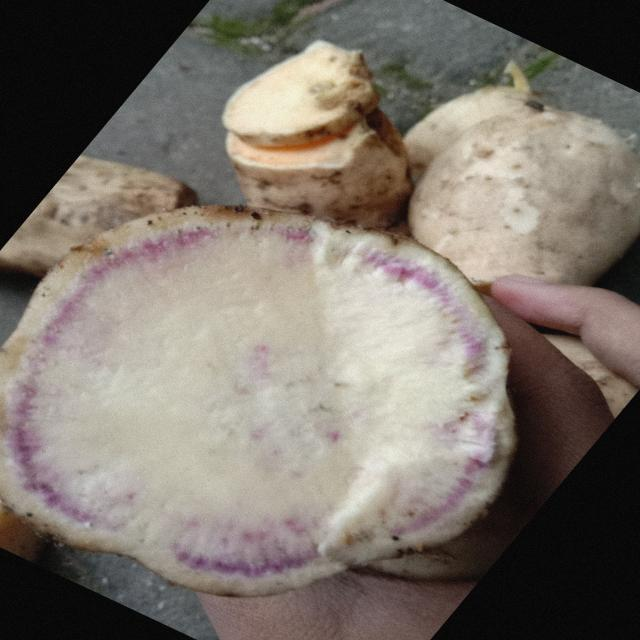Healthy Sweet Potato: (2, 206, 515, 596)
